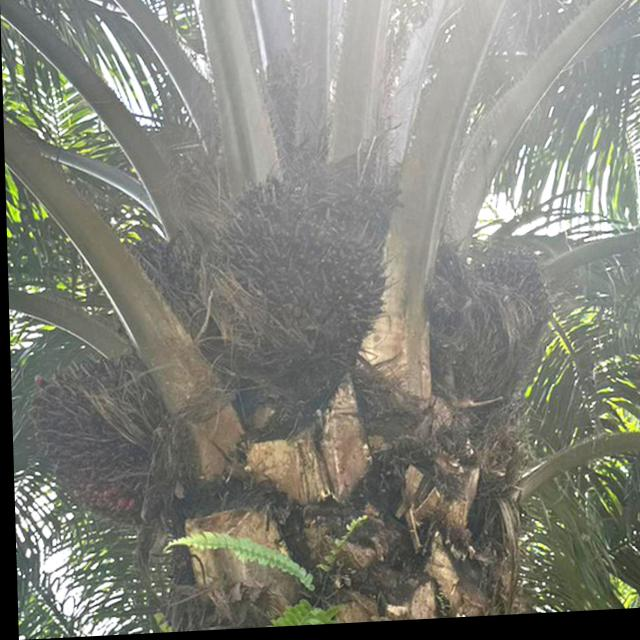ripe: (201, 166, 392, 377), (21, 352, 195, 517)
